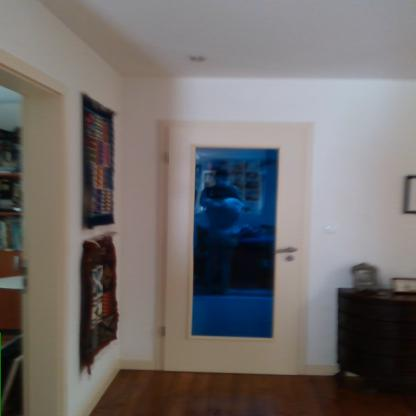closed: (155, 127, 313, 367)
